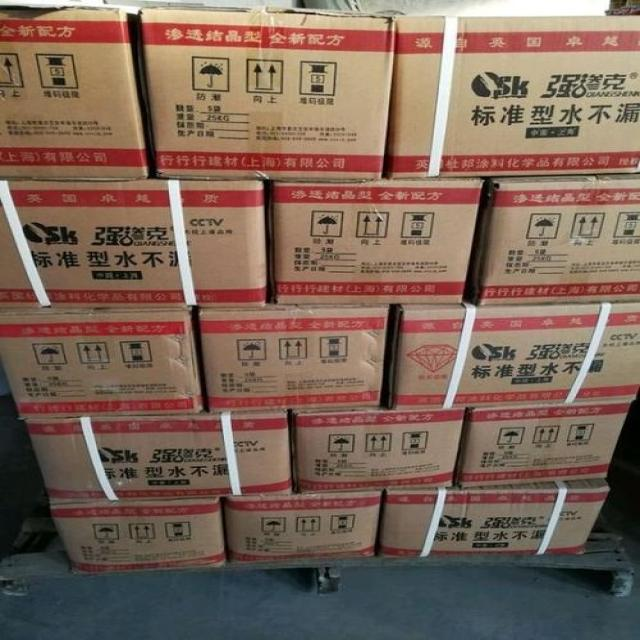box: (144, 9, 395, 182), (390, 13, 639, 180), (2, 179, 265, 310), (268, 180, 485, 305), (0, 3, 152, 179), (391, 305, 639, 411), (27, 413, 294, 501), (466, 176, 639, 305), (0, 309, 204, 418), (197, 306, 398, 413), (380, 482, 608, 557), (457, 403, 632, 488), (296, 409, 465, 493), (51, 499, 226, 572), (222, 492, 383, 561)
